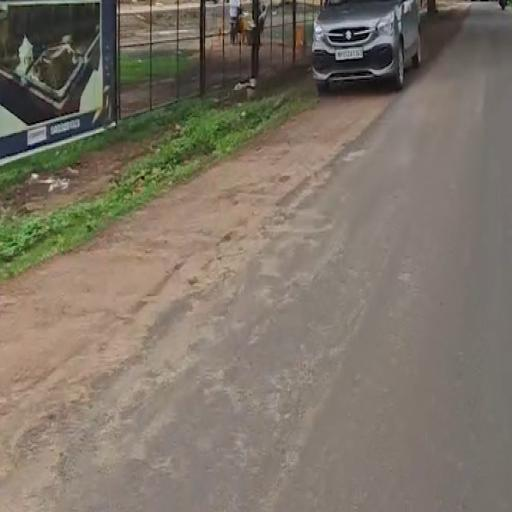edge_damage: (7, 108, 400, 476)
